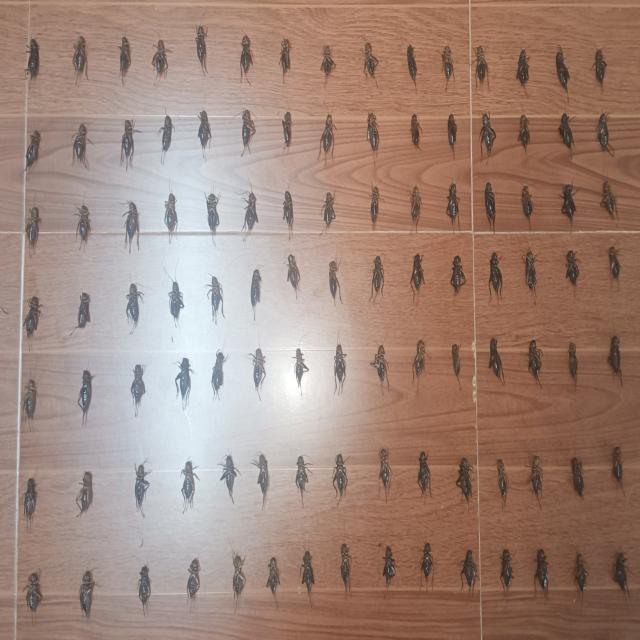egg: (176, 357, 194, 410), (219, 454, 238, 503), (25, 571, 43, 621), (253, 453, 269, 509), (207, 275, 225, 323), (78, 370, 94, 424), (126, 283, 144, 330), (134, 462, 149, 517), (479, 112, 496, 160), (181, 460, 196, 513), (72, 34, 88, 83), (79, 570, 95, 619), (131, 364, 146, 416), (293, 456, 309, 504), (455, 457, 472, 502), (76, 471, 93, 516), (25, 205, 41, 251), (332, 453, 347, 502), (265, 556, 280, 605), (211, 350, 226, 399), (370, 346, 387, 389), (488, 253, 502, 305), (232, 553, 246, 605), (168, 281, 184, 326), (252, 349, 267, 397), (613, 553, 629, 598), (23, 296, 40, 338), (242, 192, 258, 236), (378, 448, 391, 502), (125, 201, 139, 251), (534, 549, 548, 599), (596, 113, 613, 154), (320, 114, 335, 159), (489, 338, 504, 383), (73, 123, 88, 168), (164, 193, 178, 241), (120, 120, 134, 168), (608, 335, 622, 383), (574, 551, 588, 599), (561, 184, 577, 226), (153, 40, 170, 79), (301, 550, 315, 597), (137, 564, 150, 614), (530, 455, 543, 505), (76, 204, 91, 247), (417, 451, 431, 497), (187, 558, 201, 604), (195, 25, 208, 74), (287, 254, 301, 299), (450, 255, 466, 294), (413, 340, 426, 388), (242, 110, 256, 154), (461, 550, 476, 591), (421, 542, 434, 589), (250, 269, 262, 319), (334, 343, 346, 393), (198, 111, 211, 157), (25, 38, 39, 80), (120, 35, 132, 84), (382, 546, 396, 588), (240, 34, 253, 79), (446, 183, 459, 228), (371, 255, 384, 300), (22, 380, 37, 419), (26, 130, 41, 169), (556, 48, 569, 93), (295, 347, 309, 388), (329, 260, 342, 304), (23, 478, 36, 522), (206, 193, 219, 237), (161, 116, 173, 163), (410, 254, 424, 294), (612, 446, 624, 492), (529, 340, 541, 386), (566, 251, 580, 290), (601, 182, 616, 218), (559, 113, 574, 149), (484, 182, 495, 231), (526, 249, 537, 298), (501, 549, 514, 590), (442, 47, 454, 91), (497, 460, 508, 508), (364, 42, 378, 79), (341, 543, 351, 594), (367, 112, 379, 154), (475, 46, 488, 84), (323, 191, 336, 229), (516, 49, 529, 87), (571, 457, 583, 498), (283, 190, 294, 233), (594, 49, 606, 88), (279, 38, 290, 80), (411, 185, 421, 230), (321, 46, 335, 78), (521, 185, 533, 222), (518, 114, 530, 151), (407, 44, 417, 86), (78, 292, 90, 327), (448, 114, 457, 160), (609, 246, 620, 282), (569, 342, 578, 386), (411, 114, 421, 148), (282, 111, 291, 148), (370, 186, 378, 227), (452, 344, 460, 383), (272, 572, 278, 583)
